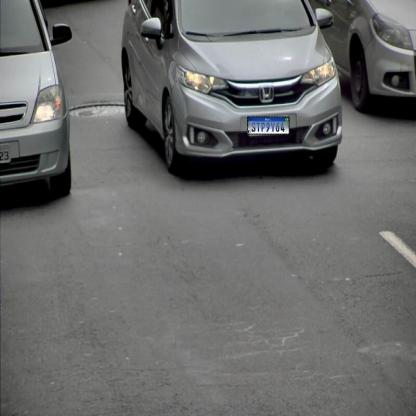PlacaM: (247, 116, 290, 134)
